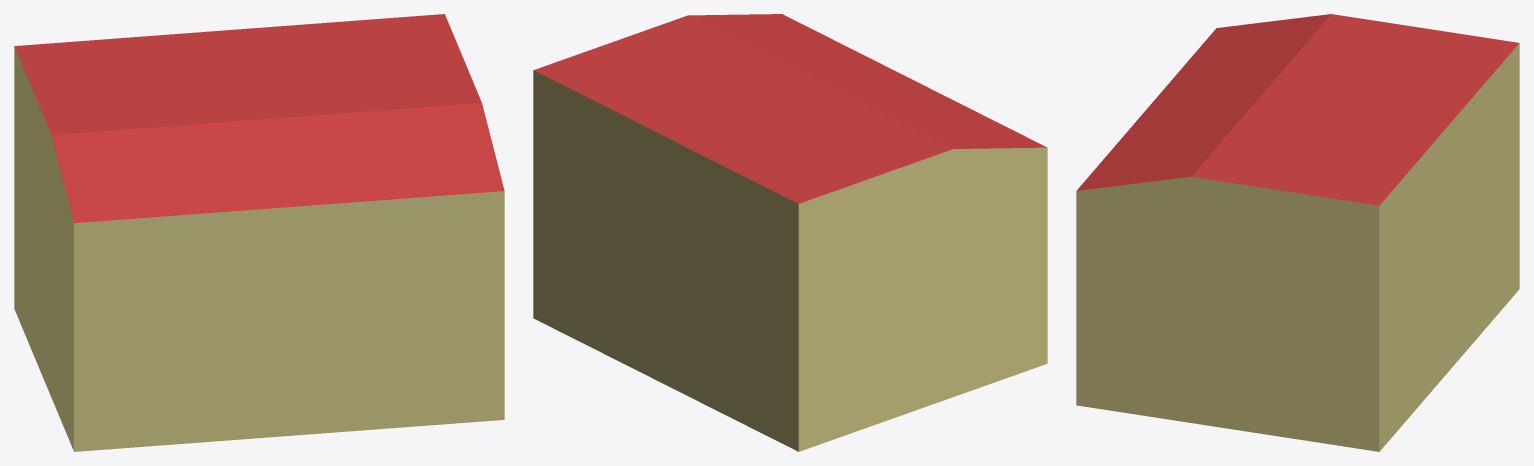
The picture shows the model from 3 angles, left to right: view 1: azimuth 30°, elevation 25°; view 2: azimuth 150°, elevation 25°; view 3: azimuth 270°, elevation 25°; orthographic projection. The views are drawn at different scales.
Bounding box in the file's own units: 15.96 × 14.28 × 8.75.
